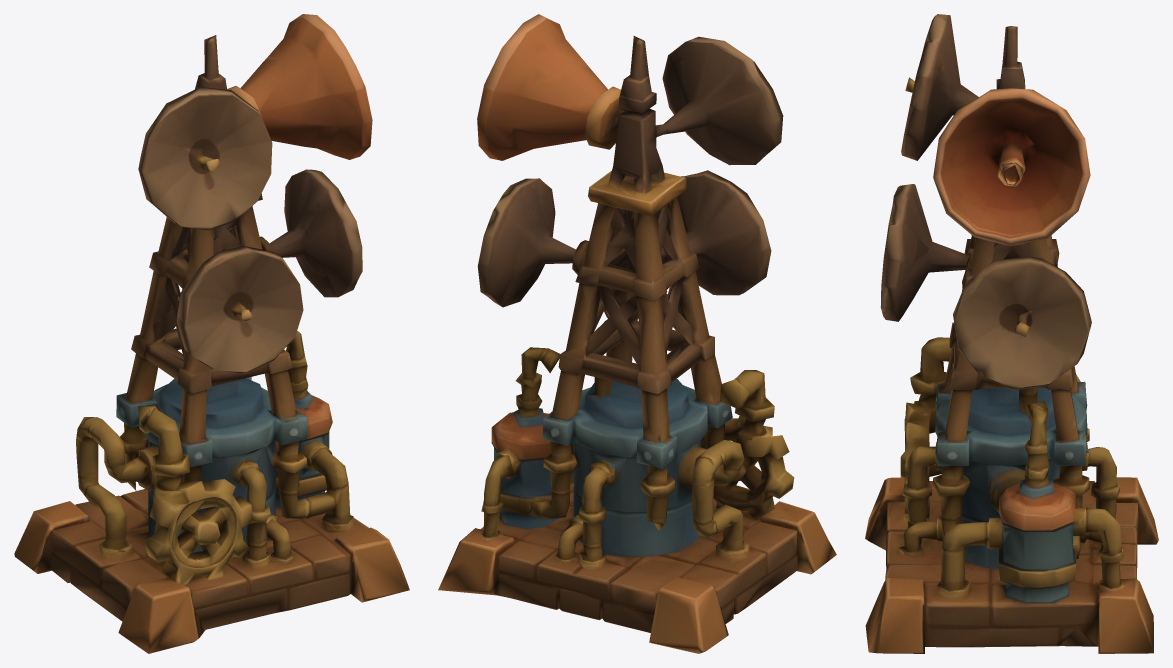
File: distant_turbine_steampunk.glb
3 renders of one model, left to right at view 1: azimuth 30°, elevation 25°; view 2: azimuth 150°, elevation 25°; view 3: azimuth 270°, elevation 25°, orthographic. The views are drawn at different scales.
Visible parts, largest first — view 1: tripo_node_f24536ca-c510-4eaa-9ca3-bb550d26e84f; view 2: tripo_node_f24536ca-c510-4eaa-9ca3-bb550d26e84f; view 3: tripo_node_f24536ca-c510-4eaa-9ca3-bb550d26e84f.
Part boxes in pixels (x1,y1,x2,y2): tripo_node_f24536ca-c510-4eaa-9ca3-bb550d26e84f: (14,14,409,653); tripo_node_f24536ca-c510-4eaa-9ca3-bb550d26e84f: (438,14,836,653); tripo_node_f24536ca-c510-4eaa-9ca3-bb550d26e84f: (865,14,1158,653).
Size of the model in its own units: 0.5312 by 1 by 0.4737.
Materials: 1 (1 with a texture image).
